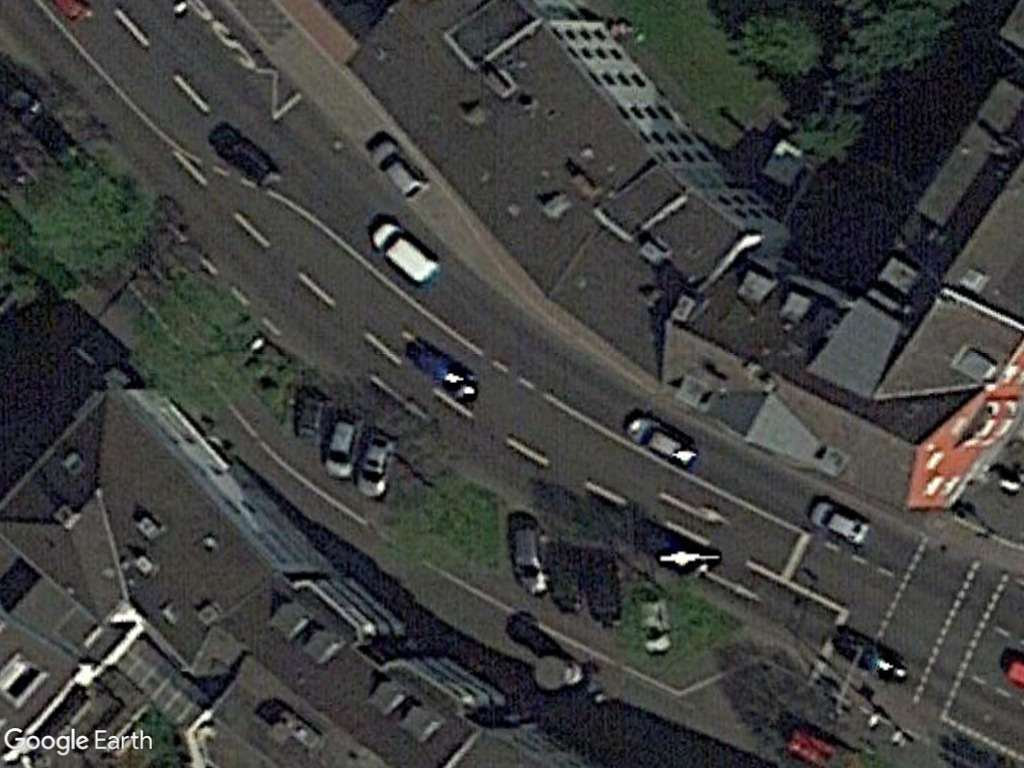car: (616, 403, 709, 475), (358, 127, 438, 207), (800, 488, 876, 559)
van: (364, 216, 441, 287)
